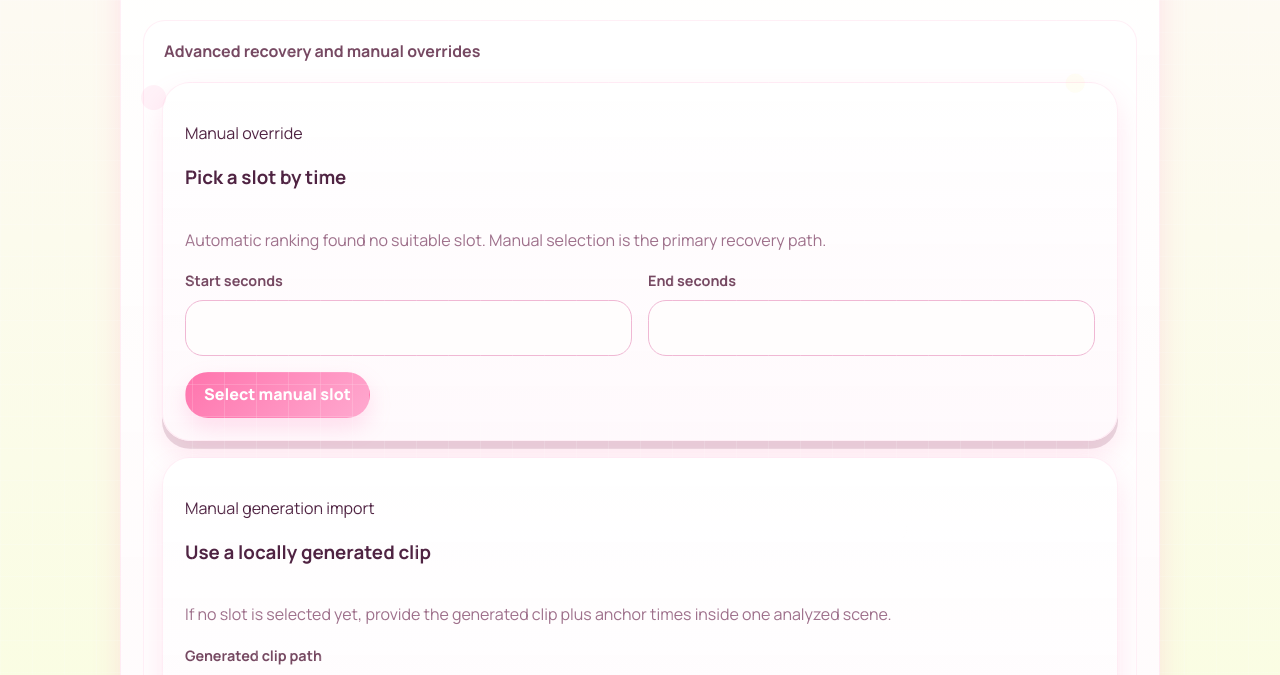
Phase 3 job page › shows manual selection controls when no auto slot is available
The image size is (1280, 675).
(page scrolled)
Expected: the text "Automatic ranking found no suitable slot. Manual selection is the primary recovery path." is shown, [185,229,826,251]
In the number field labelled "Start seconds": (408, 328) [185,300,632,356], type "2"
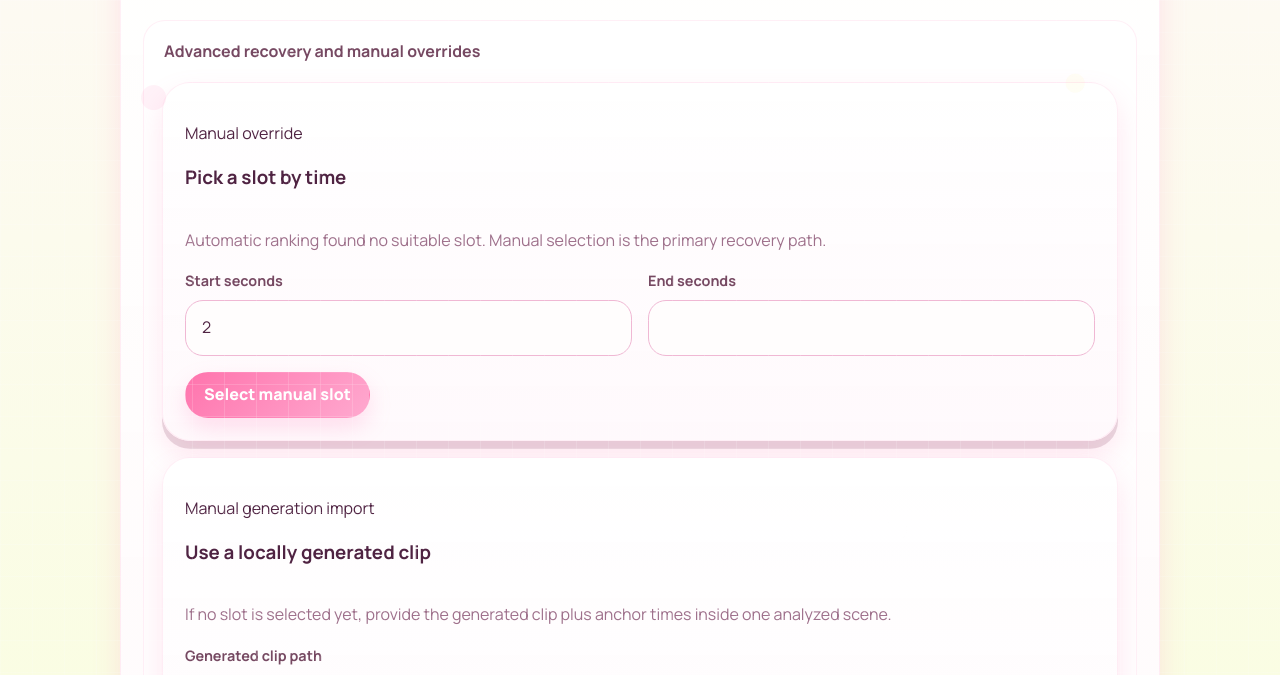
In the number field labelled "End seconds": (872, 328) [648,300,1095,356], type "6"
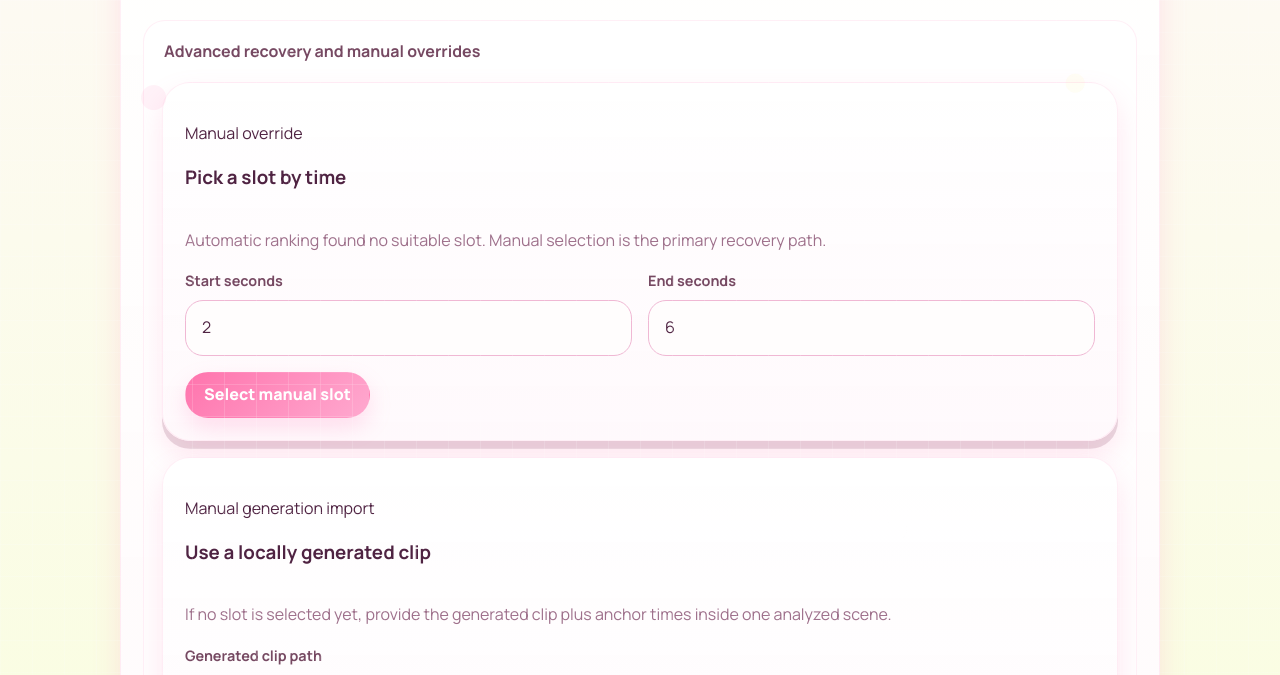
Click the button "Select manual slot": click(277, 395) [185,372,370,418]
(page scrolled)
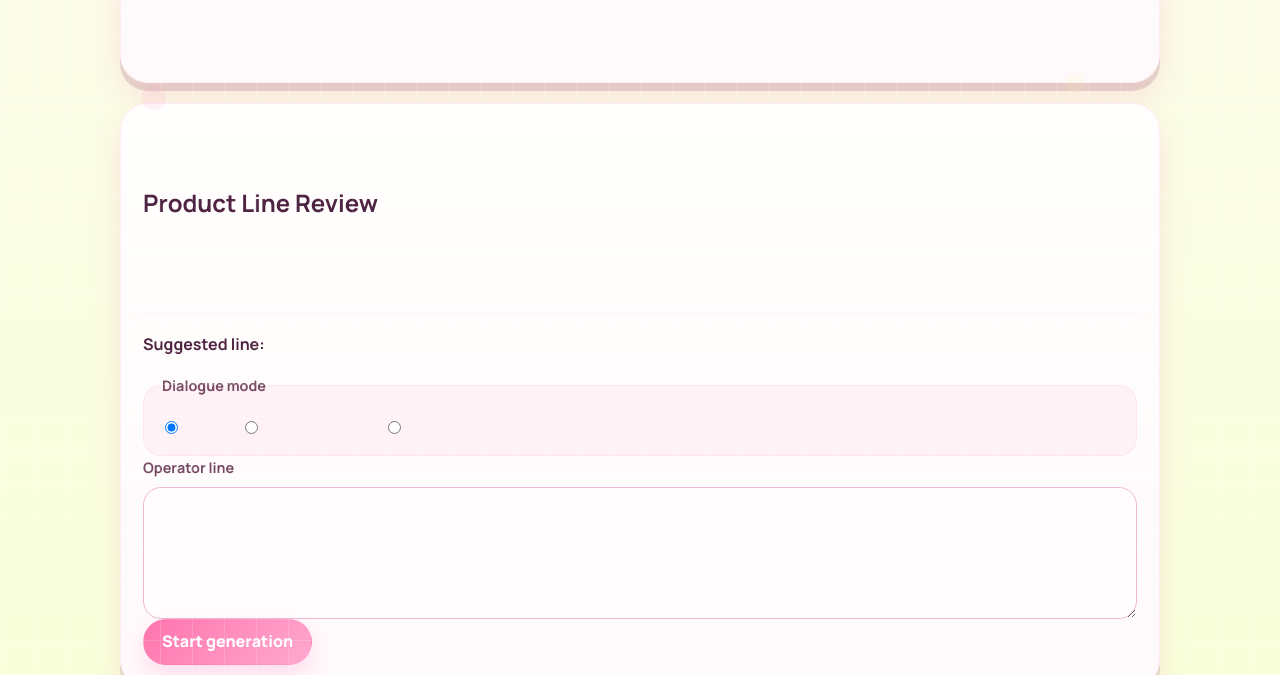
Expected: the heading "Product Line Review" is shown, [143,186,378,219]
Expected: the text box showing "Я возьму эту бутылку на секунду." is shown, [143,487,1137,619]
